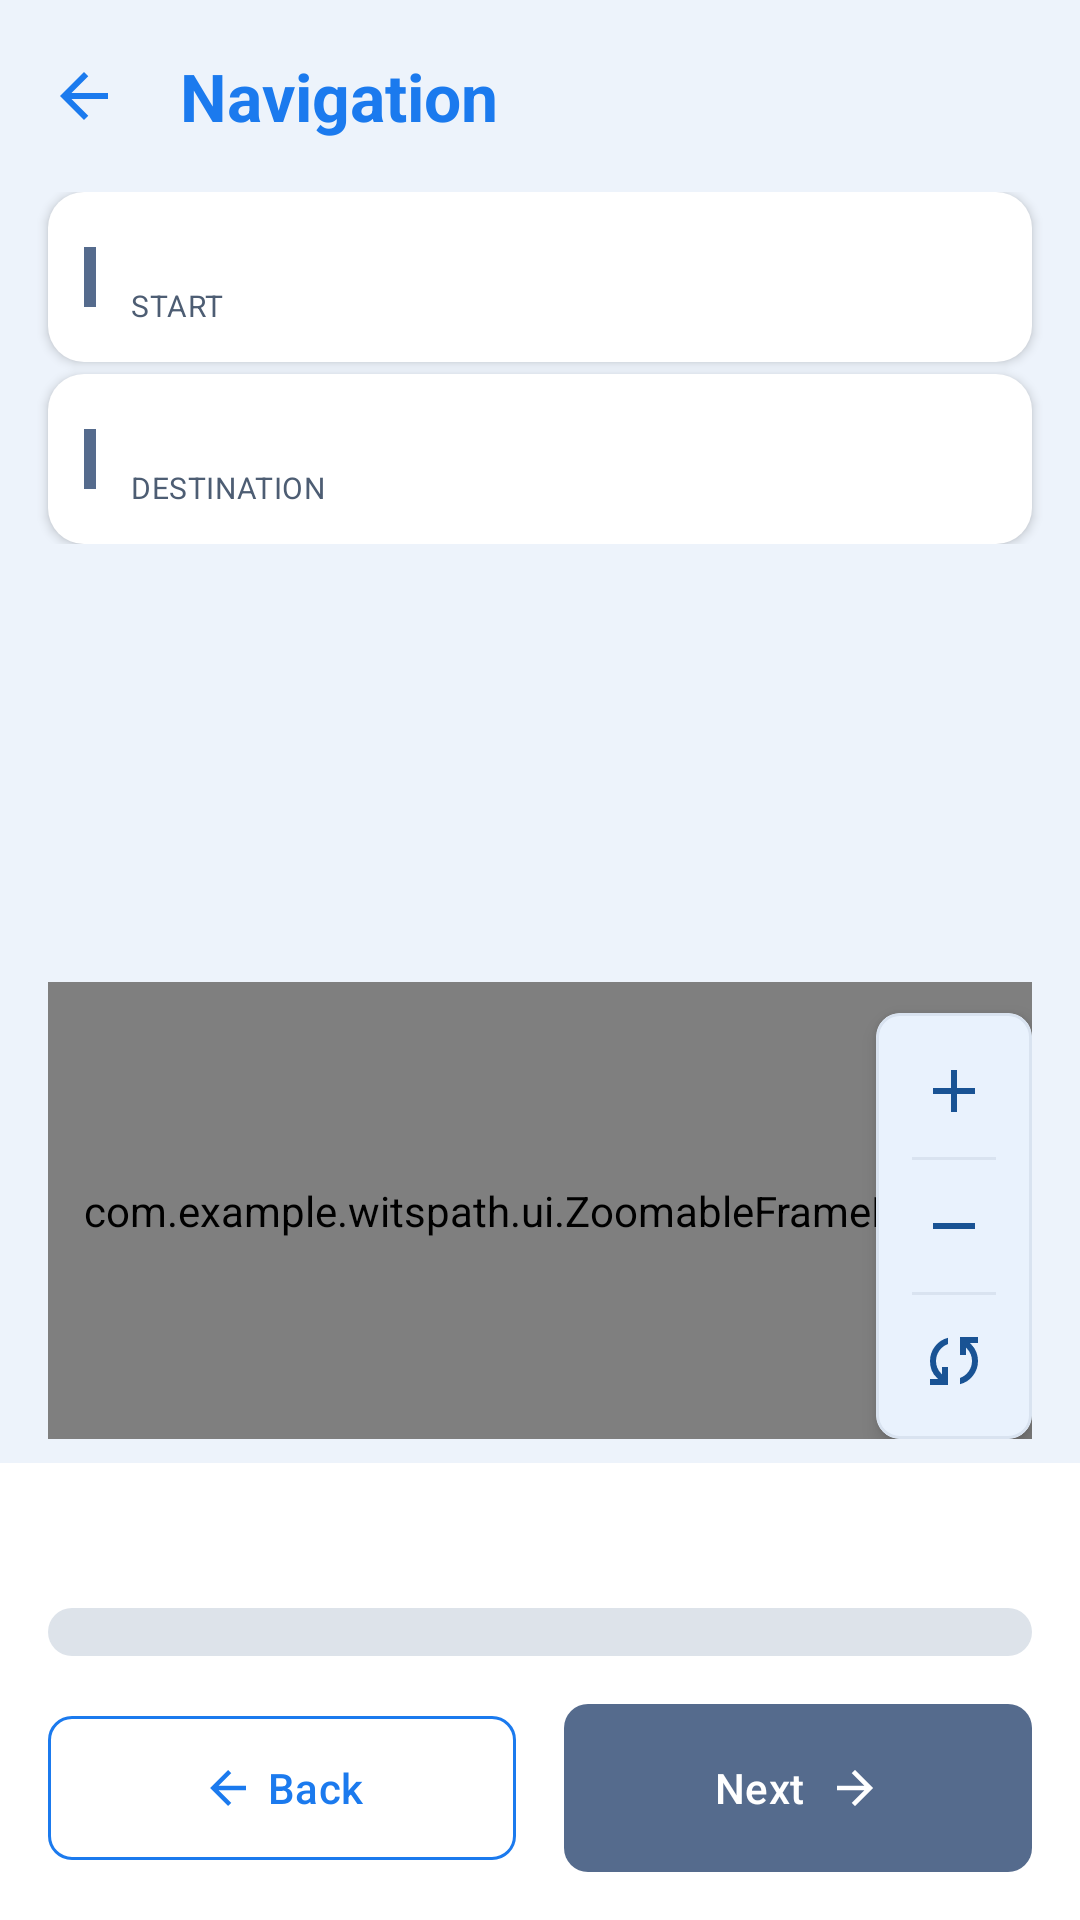

Named icons in this screenshot (1080px×1920px) and their centers, (x,y):
Reset Map: (954,1361)
Zoom In: (954,1091)
